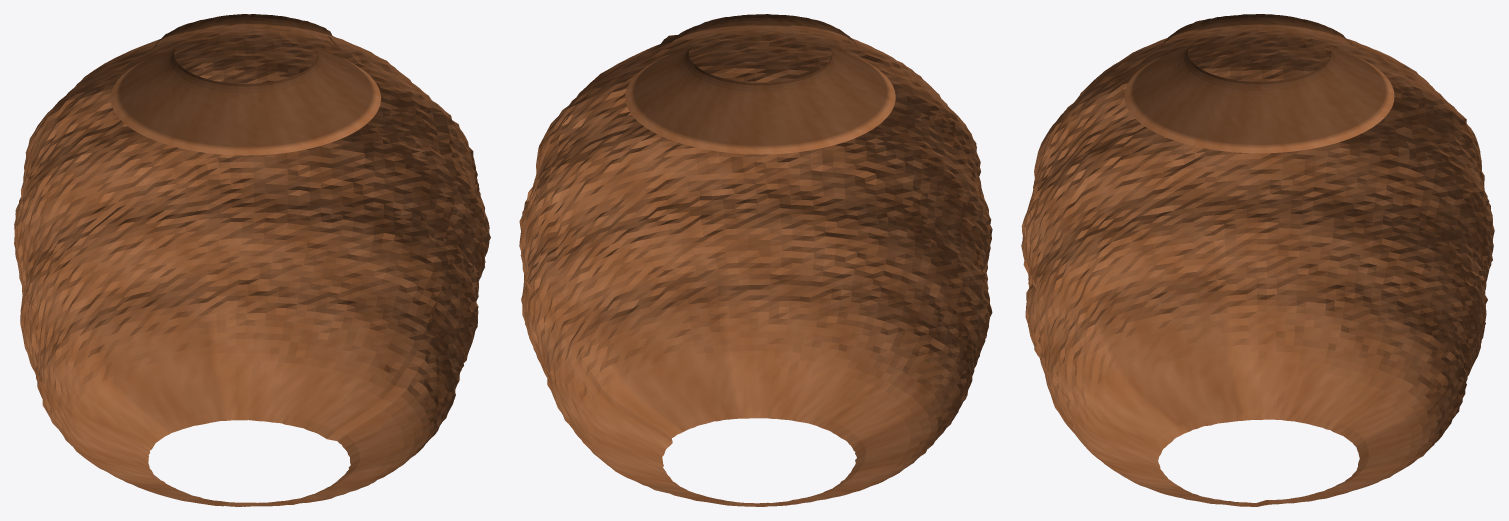
File: liuming_jar.glb
The picture shows the model from 3 angles, left to right: view 1: azimuth 30°, elevation 25°; view 2: azimuth 150°, elevation 25°; view 3: azimuth 270°, elevation 25°; orthographic projection.
Parts seen in each view (by area): view 1: world; view 2: world; view 3: world.
Boxes of the visible parts, x1,y1,x2,y2 form: world: [14, 14, 490, 506]; world: [519, 14, 992, 506]; world: [1021, 14, 1494, 506].
Bounding box in the file's own units: 2.01 × 1.91 × 2.01.
